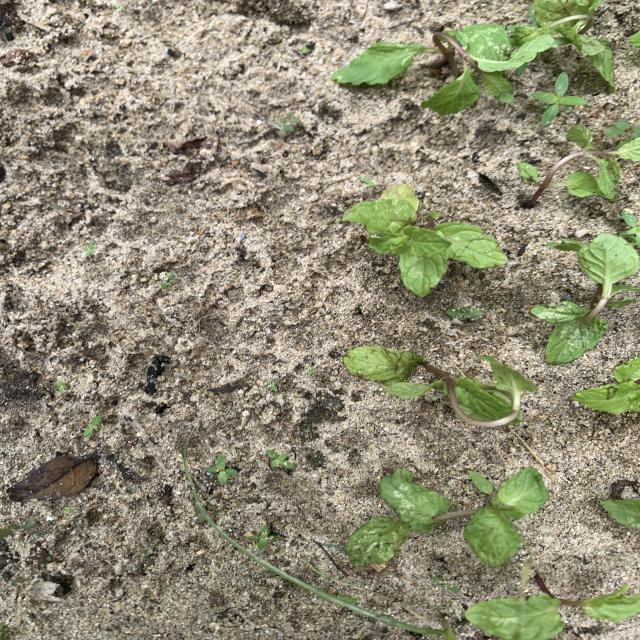crop: (346, 468, 547, 565), (344, 184, 505, 295), (332, 25, 523, 114), (344, 348, 537, 426), (533, 233, 638, 362), (466, 576, 639, 639), (518, 125, 639, 205), (508, 0, 614, 90), (573, 358, 639, 413), (602, 499, 639, 527), (630, 33, 639, 47)
weed: (192, 491, 433, 634), (532, 73, 586, 124), (206, 454, 238, 483), (246, 524, 280, 548), (0, 518, 36, 537), (604, 120, 639, 139), (266, 449, 295, 471), (273, 113, 301, 135), (622, 211, 639, 246), (446, 306, 483, 319), (83, 415, 101, 437), (434, 577, 459, 591), (160, 271, 174, 287), (360, 176, 375, 186), (264, 381, 278, 391), (56, 381, 67, 391)
